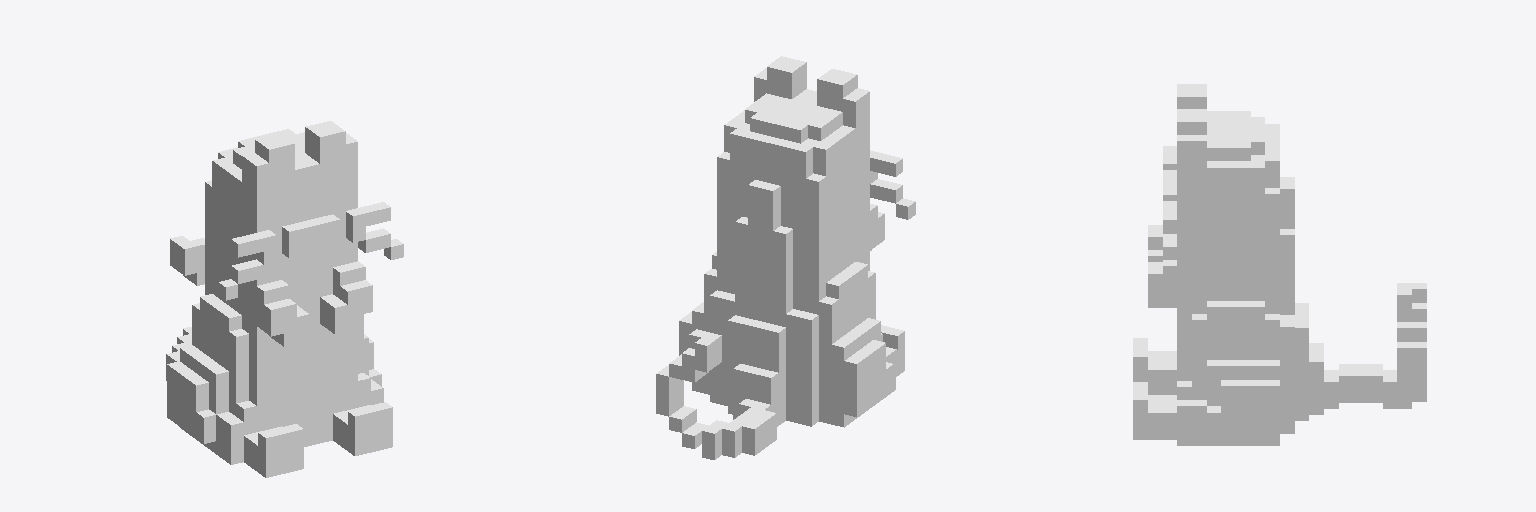
File: TinkleCat.obj
3 views of the same model, side by side, from view 1: azimuth 30°, elevation 25°; view 2: azimuth 150°, elevation 25°; view 3: azimuth 270°, elevation 25° (orthographic).
Parts seen in each view (by area): view 1: object 1; view 2: object 1; view 3: object 1.
Part boxes in pixels (left/top/right/bottom): object 1: left=166, top=121, right=403, bottom=477; object 1: left=656, top=56, right=915, bottom=459; object 1: left=1133, top=84, right=1426, bottom=445.
Size of the model in its own units: 1.4 by 2.3 by 2.